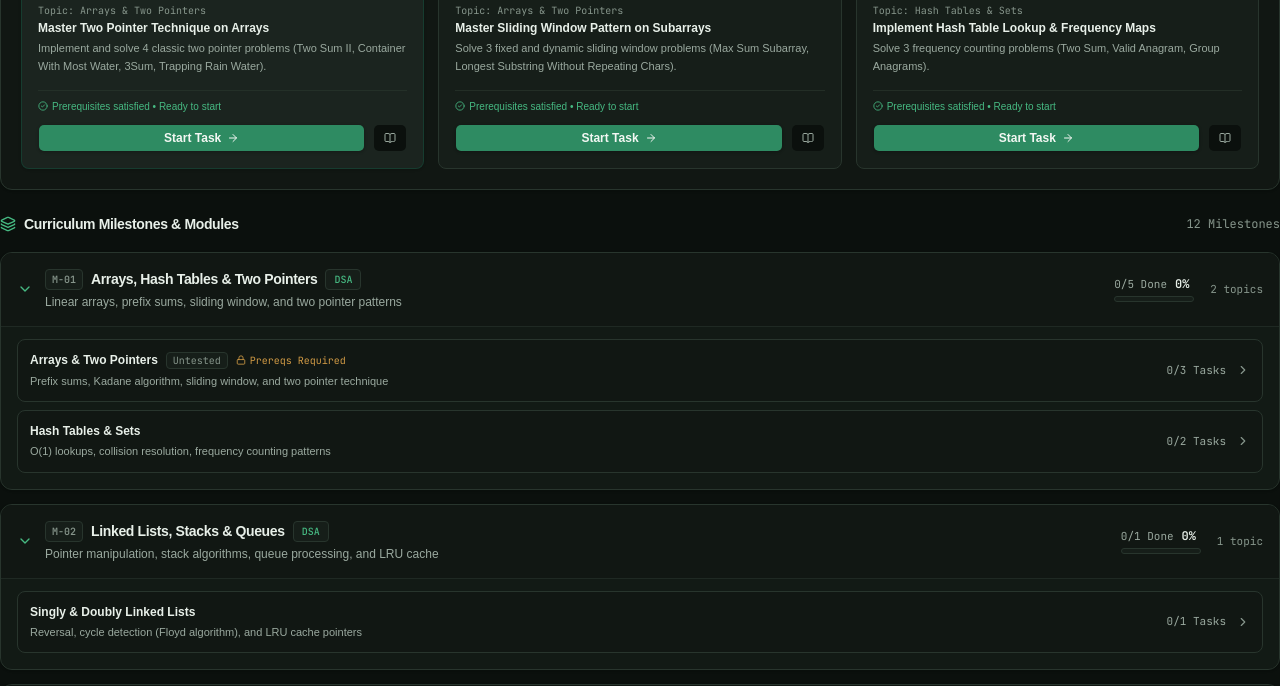
Test: F-UI-PRE-NAV: prerequisite action navigates to a real target › opens the prerequisite task in its own topic and deep-links the hash
(page scrolled)
Step 1. Click the text "Arrays & Two Pointers" → (94, 360), box [30,352,158,368]
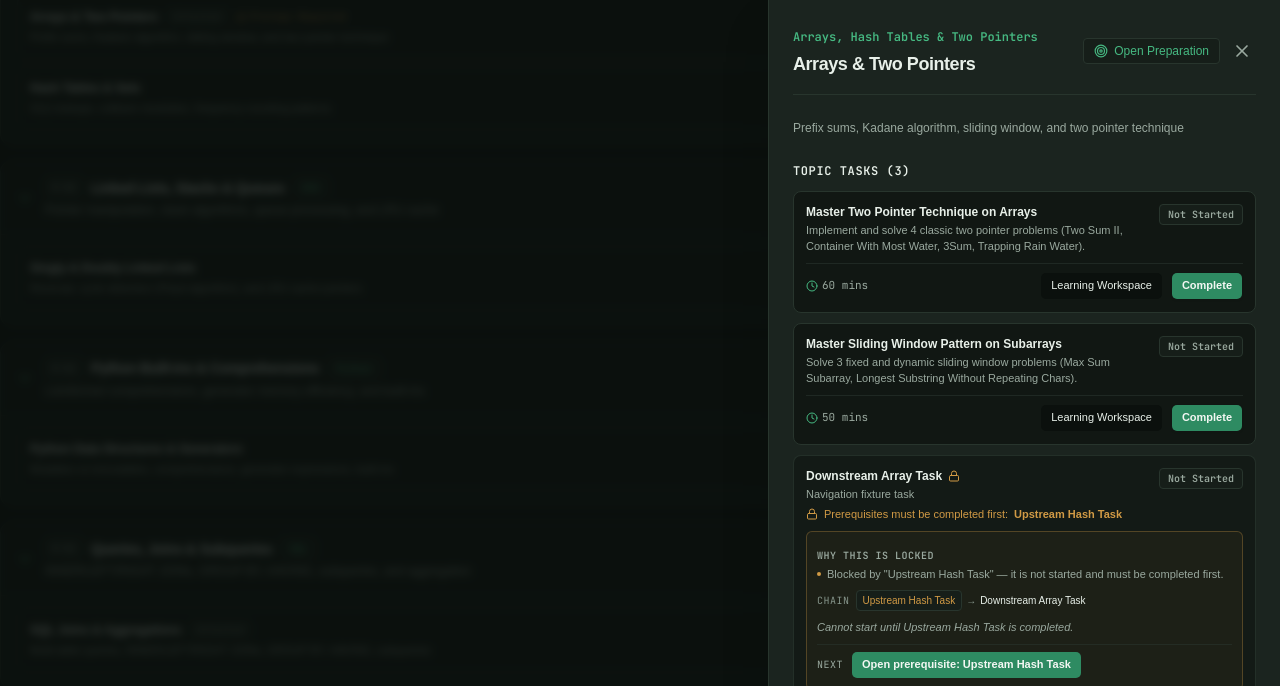
Step 2. Click the button with test id "open-prereq-nav-target-nav-upstream" → (966, 664), box [851,650,1082,678]
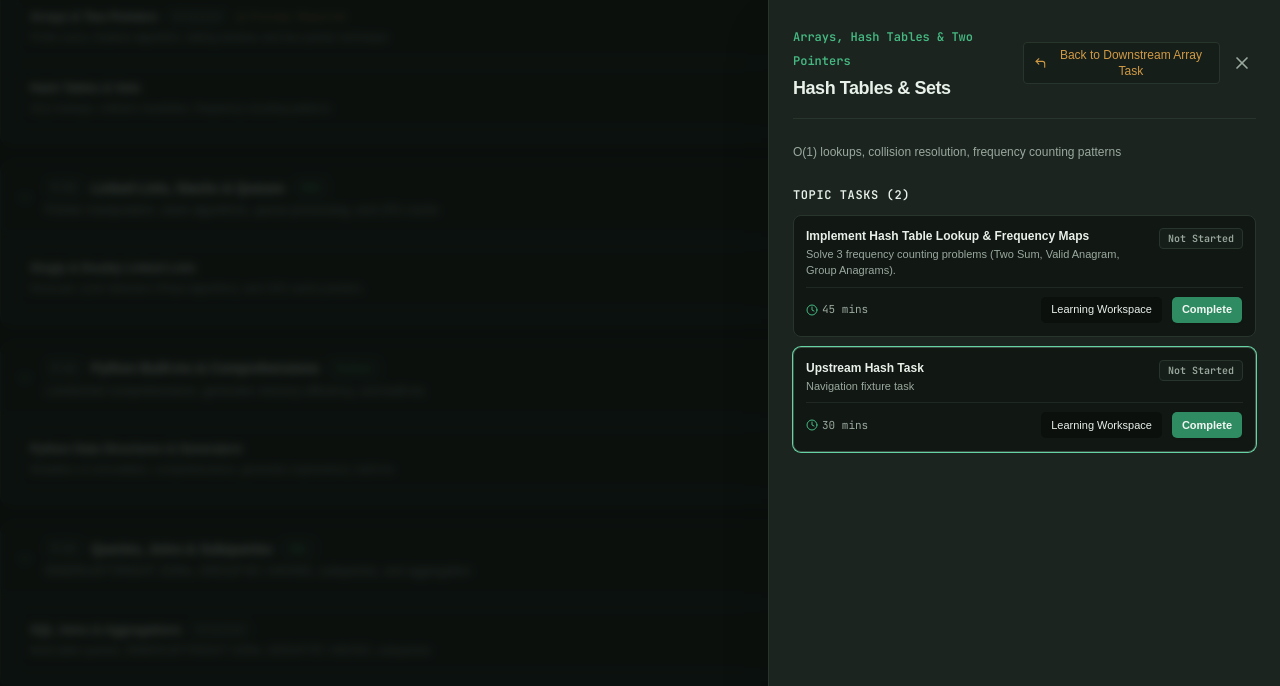
Check: the button with test id "complete-btn-nav-upstream" is enabled, box [1171,411,1243,439]
Check: the button with test id "complete-btn-nav-upstream" reads "Complete", box [1171,411,1243,439]
Check: the heading "Hash Tables & Sets" is shown, box [793,78,951,98]
